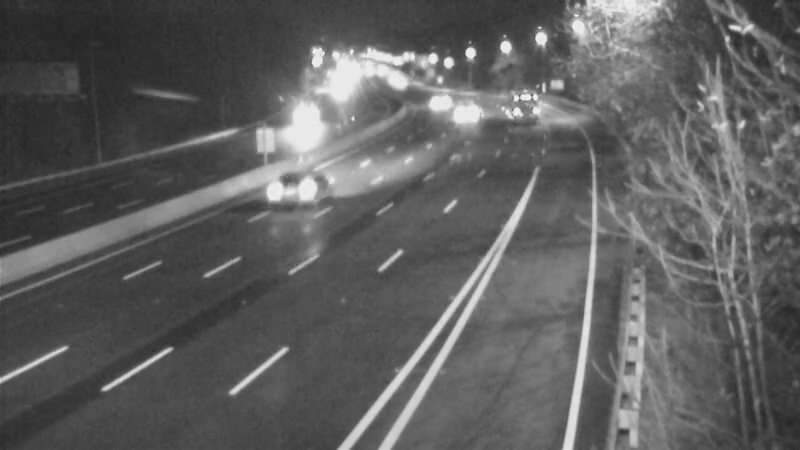vehicle: (245, 154, 325, 234), (366, 53, 416, 103), (377, 60, 427, 110), (490, 77, 540, 127), (410, 79, 460, 129), (443, 90, 493, 140), (283, 93, 333, 143), (313, 64, 363, 114)
